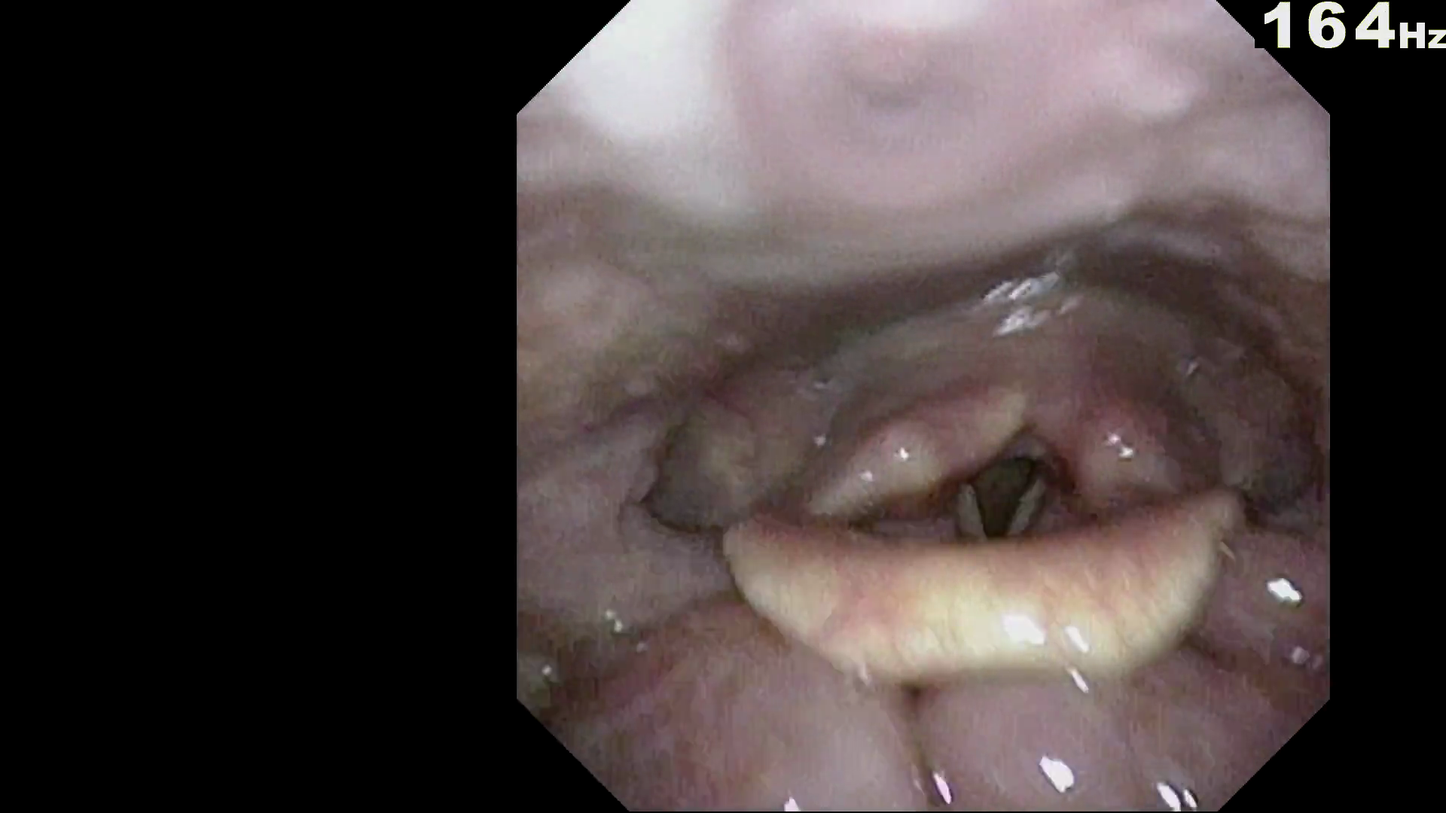epiglottis: (691, 414, 1175, 558)
